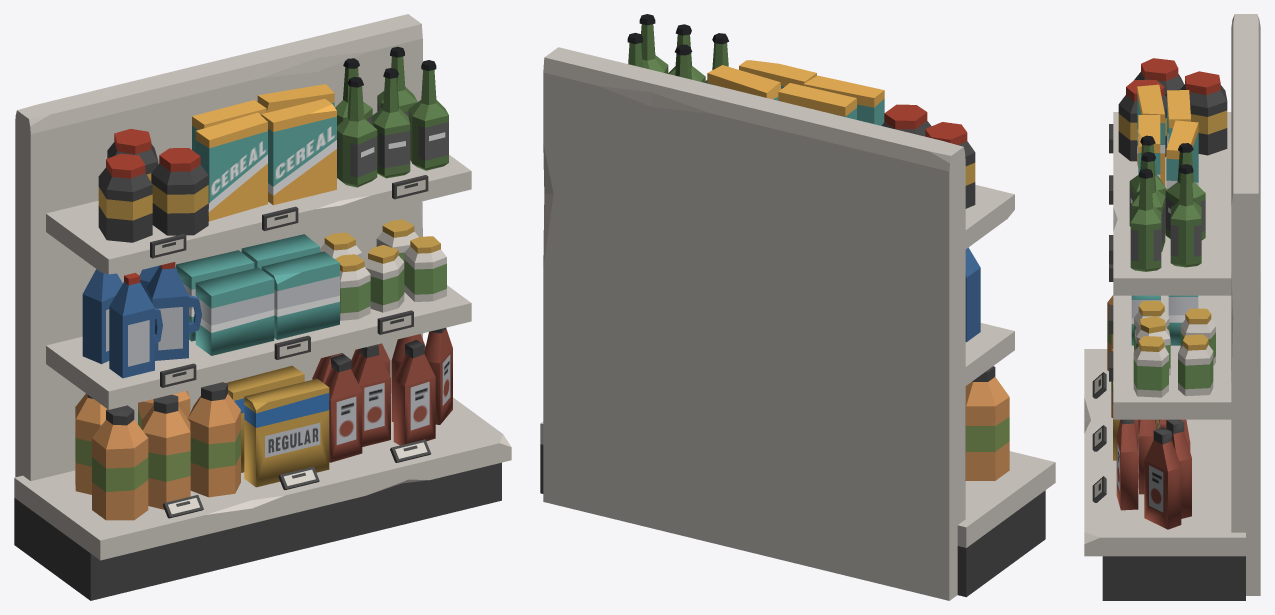
Rendered from SM_Prop_ShopShelf_01_Modified.fbx.
The picture shows the model from 3 angles, left to right: view 1: azimuth 30°, elevation 25°; view 2: azimuth 150°, elevation 25°; view 3: azimuth 270°, elevation 25°; orthographic projection. The views are drawn at different scales.
Visible parts, largest first — view 1: SM_Prop_ShopShelf_01; view 2: SM_Prop_ShopShelf_01; view 3: SM_Prop_ShopShelf_01.
Part boxes in pixels (<box>): SM_Prop_ShopShelf_01: <box>14,14,511,600</box>; SM_Prop_ShopShelf_01: <box>540,14,1055,600</box>; SM_Prop_ShopShelf_01: <box>1084,14,1260,600</box>.
Bounding box in the file's own units: 169 × 170 × 66.79.
